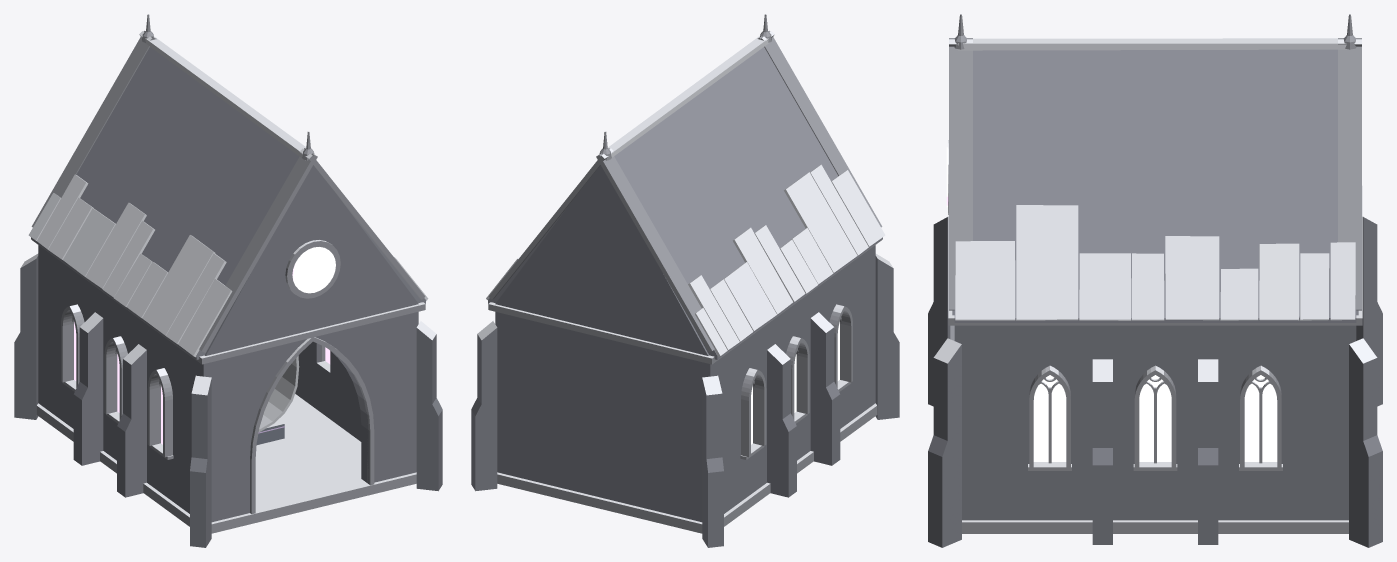
The model's file is AR_Galpao_Casco.fbx.
3 views of the same model, side by side, from view 1: azimuth 30°, elevation 25°; view 2: azimuth 150°, elevation 25°; view 3: azimuth 270°, elevation 25° (orthographic). The views are drawn at different scales.
Parts seen in each view (by area): view 1: AR_Galpao_Casco; view 2: AR_Galpao_Casco; view 3: AR_Galpao_Casco.
Part boxes in pixels (left/top/right/bottom): AR_Galpao_Casco: left=14, top=14, right=442, bottom=547; AR_Galpao_Casco: left=471, top=14, right=899, bottom=547; AR_Galpao_Casco: left=928, top=14, right=1382, bottom=547.
Size of the model in its own units: 14.4 by 20.17 by 18.12.
